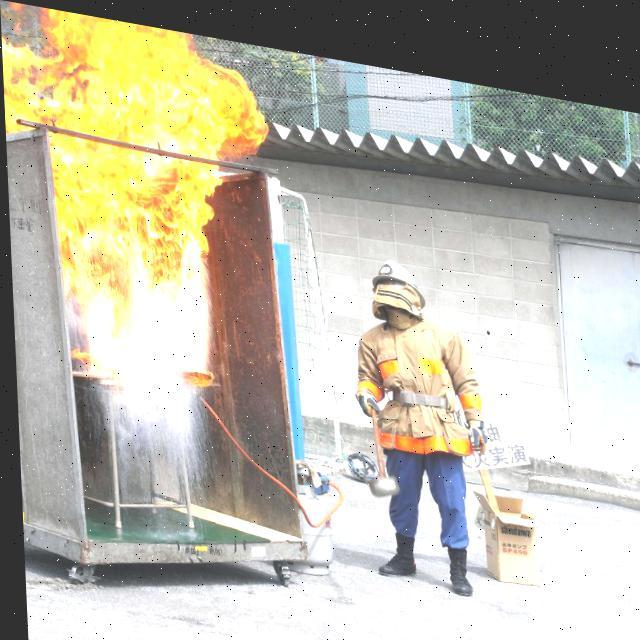Fire: (0, 0, 277, 398)
